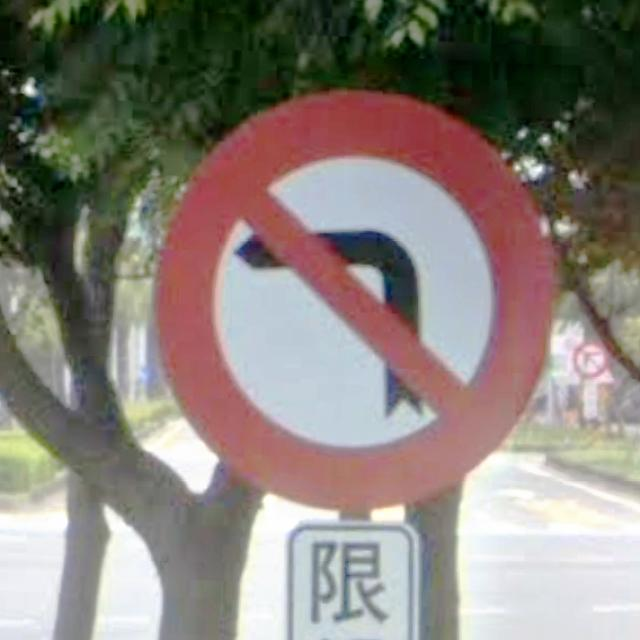noturnleft: (151, 92, 559, 515)
